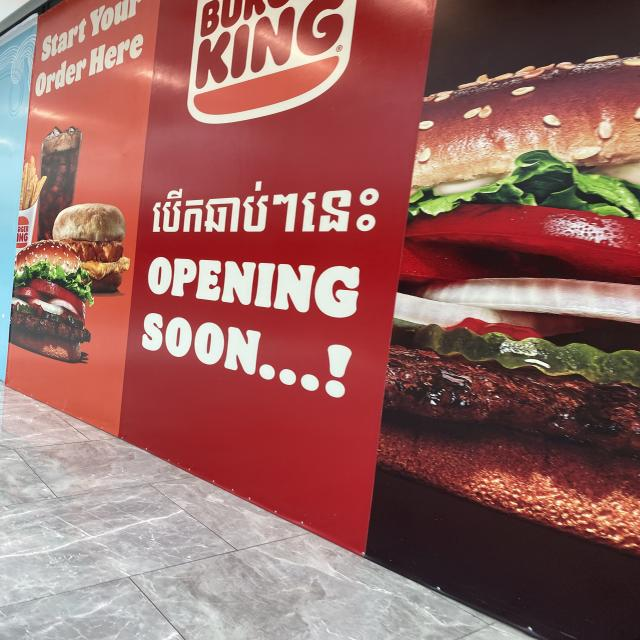Yolov11kh: (145, 174, 385, 241)
